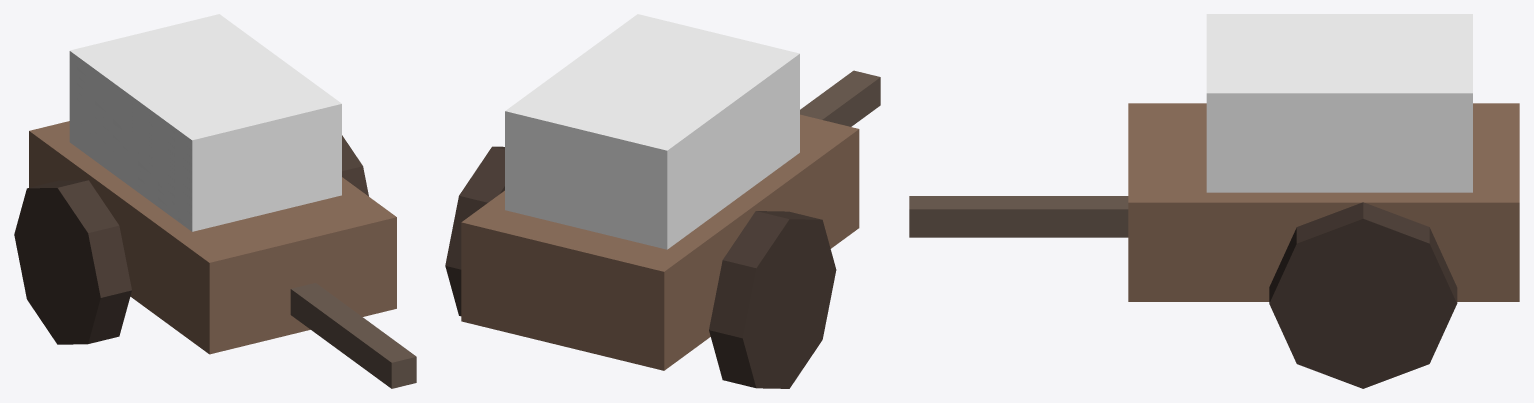
File: cart.glb
3 renders of one model, left to right at view 1: azimuth 30°, elevation 25°; view 2: azimuth 150°, elevation 25°; view 3: azimuth 270°, elevation 25°, orthographic. The views are drawn at different scales.
Parts seen in each view (by area): view 1: load, bed, wheel-1, shaft, wheel1; view 2: load, bed, wheel-1, wheel1, shaft; view 3: load, bed, wheel1, shaft.
Boxes of the visible parts, x1,y1,x2,y2 form: load: [69, 14, 341, 231]; bed: [29, 121, 396, 354]; wheel-1: [14, 180, 131, 344]; shaft: [290, 283, 416, 388]; wheel1: [342, 135, 368, 196]; load: [505, 14, 799, 249]; bed: [461, 114, 859, 370]; wheel-1: [709, 211, 836, 388]; wheel1: [445, 146, 504, 316]; shaft: [800, 70, 880, 126]; load: [1206, 14, 1472, 192]; bed: [1128, 103, 1519, 301]; wheel1: [1269, 202, 1457, 388]; shaft: [909, 196, 1128, 237].
Size of the model in its own units: 0.44 by 0.37 by 0.78.
